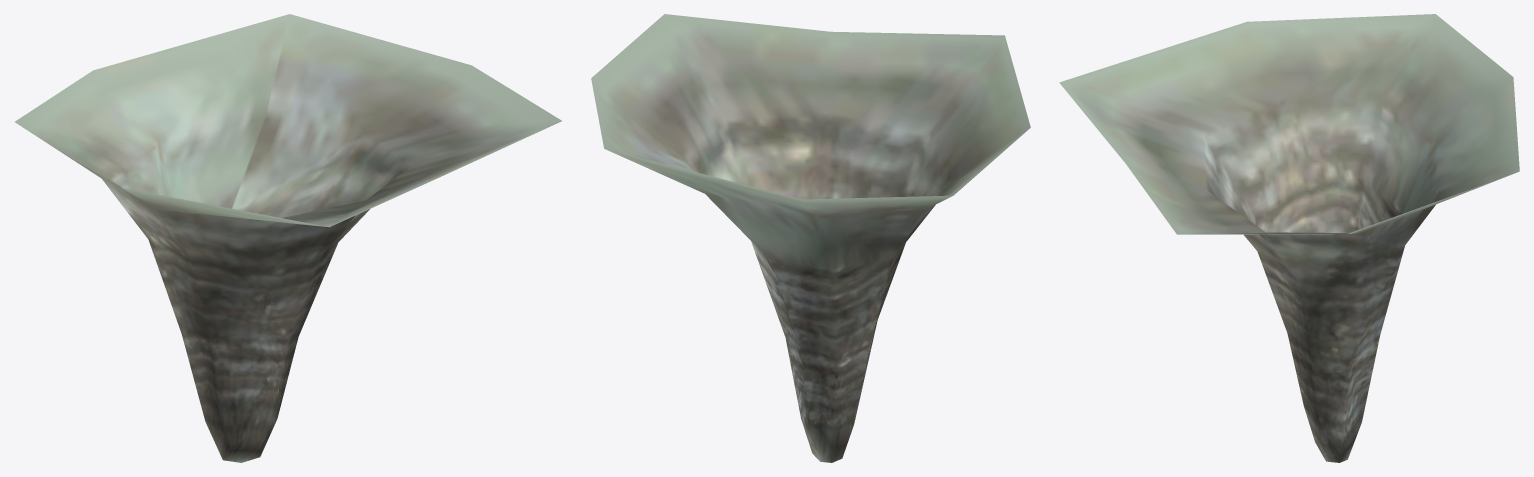
File: TROLLHOLE02_PS-MAINSTALAG84.fbx
The picture shows the model from 3 angles, left to right: view 1: azimuth 30°, elevation 25°; view 2: azimuth 150°, elevation 25°; view 3: azimuth 270°, elevation 25°; orthographic projection. The views are drawn at different scales.
Visible parts, largest first — view 1: TROLLHOLE02_PS-MAINSTALAG84; view 2: TROLLHOLE02_PS-MAINSTALAG84; view 3: TROLLHOLE02_PS-MAINSTALAG84.
Part boxes in pixels (bbox=[...]): TROLLHOLE02_PS-MAINSTALAG84: bbox=[15, 14, 561, 462]; TROLLHOLE02_PS-MAINSTALAG84: bbox=[591, 14, 1030, 462]; TROLLHOLE02_PS-MAINSTALAG84: bbox=[1059, 14, 1519, 462].
Size of the model in its own units: 20685 by 16313 by 19092.
Materials: 1 (1 with a texture image).
